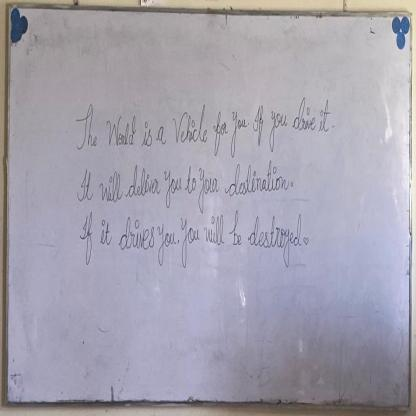Handwritten text: (74, 213, 304, 281), (74, 93, 331, 152), (65, 159, 288, 214)
Whiteboard: (7, 7, 412, 411)
